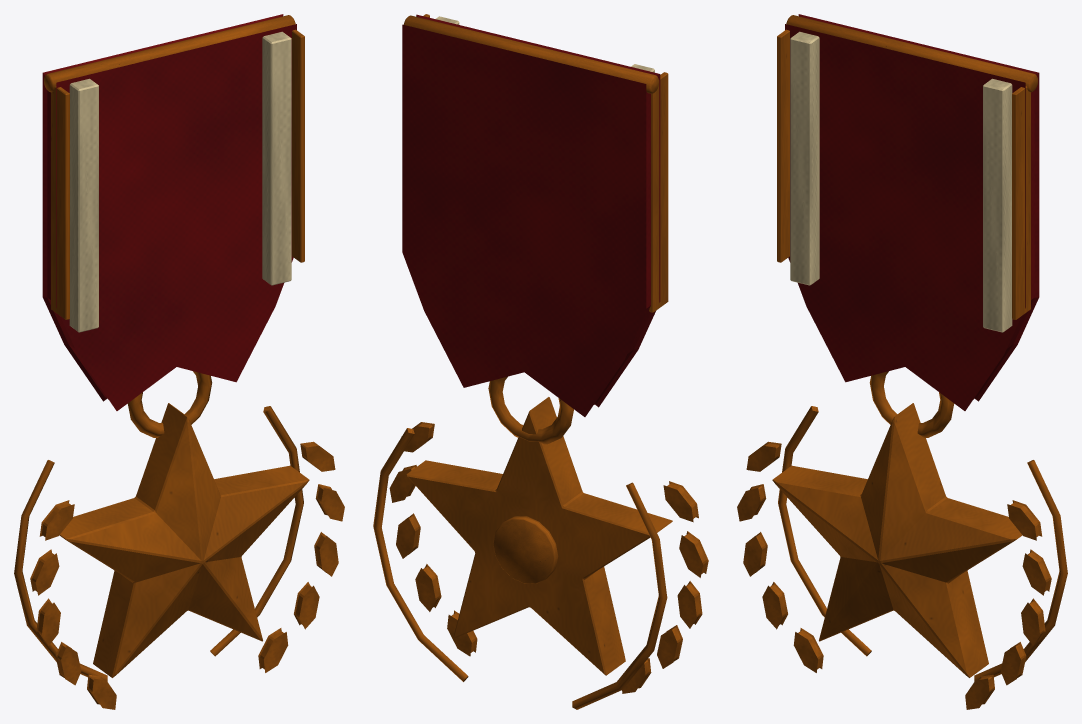
The model's file is gold_medal_LOD1.glb.
The picture shows the model from 3 angles, left to right: view 1: azimuth 30°, elevation 25°; view 2: azimuth 150°, elevation 25°; view 3: azimuth 330°, elevation 25°; orthographic projection.
Parts seen in each view (by area): view 1: Woven folded ribbon, Deep faceted five point star, Ivory woven ribbon stripe.001, Ivory woven ribbon stripe, Ribbon stitched edge, Ribbon stitched edge.001, Ribbon top retaining bar, Laurel branch 1, Laurel branch -1, Hanging ring, Laurel pointed leaf -1-4, Laurel pointed leaf -1-3 (+8 smaller); view 2: Woven folded ribbon, Deep faceted five point star, Ribbon stitched edge, Inferred star rear fastening disk, Ribbon top retaining bar, Laurel branch 1, Laurel branch -1, Hanging ring, Laurel pointed leaf -1-4, Laurel pointed leaf -1-3, Laurel pointed leaf 1-1, Laurel pointed leaf -1-2 (+5 smaller); view 3: Woven folded ribbon, Deep faceted five point star, Ivory woven ribbon stripe, Ivory woven ribbon stripe.001, Ribbon stitched edge.001, Ribbon stitched edge, Ribbon top retaining bar, Laurel branch -1, Laurel branch 1, Hanging ring, Laurel pointed leaf 1-4, Laurel pointed leaf 1-3 (+8 smaller).
Boxes of the visible parts, x1,y1,x2,y2 form: Woven folded ribbon: [42, 14, 296, 410]; Deep faceted five point star: [59, 403, 309, 677]; Ivory woven ribbon stripe.001: [262, 31, 291, 285]; Ivory woven ribbon stripe: [69, 78, 98, 332]; Ribbon stitched edge: [51, 86, 69, 319]; Ribbon stitched edge.001: [292, 29, 304, 262]; Ribbon top retaining bar: [44, 15, 295, 92]; Laurel branch 1: [210, 406, 303, 656]; Laurel branch -1: [14, 460, 107, 681]; Hanging ring: [127, 371, 212, 437]; Laurel pointed leaf -1-4: [39, 500, 74, 540]; Laurel pointed leaf -1-3: [30, 549, 59, 595]; Woven folded ribbon: [402, 14, 660, 416]; Deep faceted five point star: [406, 397, 672, 675]; Ribbon stitched edge: [649, 72, 668, 312]; Inferred star rear fastening disk: [493, 516, 558, 583]; Ribbon top retaining bar: [403, 15, 658, 93]; Laurel branch 1: [373, 428, 468, 681]; Laurel branch -1: [572, 482, 667, 709]; Hanging ring: [488, 376, 573, 444]; Laurel pointed leaf -1-4: [663, 481, 698, 522]; Laurel pointed leaf -1-3: [679, 531, 708, 577]; Laurel pointed leaf 1-1: [415, 564, 441, 611]; Laurel pointed leaf -1-2: [677, 581, 702, 628]; Woven folded ribbon: [785, 14, 1039, 410]; Deep faceted five point star: [772, 403, 1022, 677]; Ivory woven ribbon stripe: [790, 31, 819, 285]; Ivory woven ribbon stripe.001: [983, 78, 1012, 332]; Ribbon stitched edge.001: [1012, 86, 1030, 319]; Ribbon stitched edge: [777, 29, 789, 262]; Ribbon top retaining bar: [786, 15, 1037, 92]; Laurel branch -1: [778, 406, 871, 656]; Laurel branch 1: [974, 460, 1067, 681]; Hanging ring: [869, 371, 954, 437]; Laurel pointed leaf 1-4: [1007, 500, 1042, 540]; Laurel pointed leaf 1-3: [1022, 549, 1051, 595].
Size of the model in its own units: 0.1316 by 0.2575 by 0.034.
3 materials, 3 textured.
